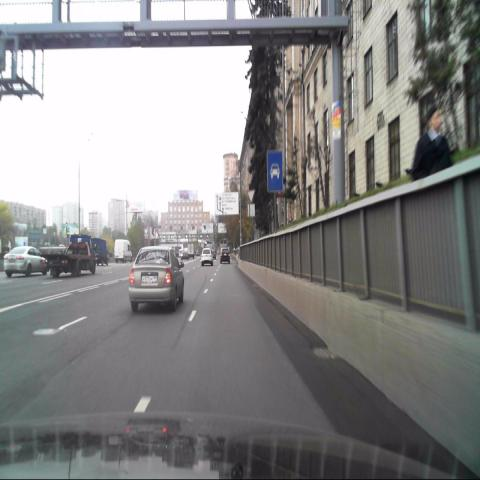5_3: (267, 149, 283, 191)
